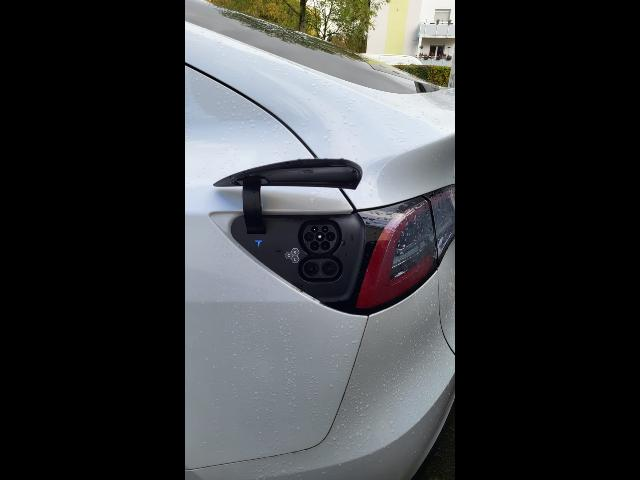inlet: (303, 225, 337, 253)
inlet-above-left: (311, 226, 318, 233)
inlet-above-right: (321, 226, 329, 233)
inlet-below-left: (310, 241, 320, 251)
inlet-below-right: (320, 241, 330, 251)
inlet-circle: (315, 232, 325, 241)
inlet-circle-left: (304, 232, 314, 242)
inlet-circle-right: (326, 231, 336, 242)
inlet-minus: (321, 261, 337, 276)
inlet-plus: (304, 261, 319, 277)
